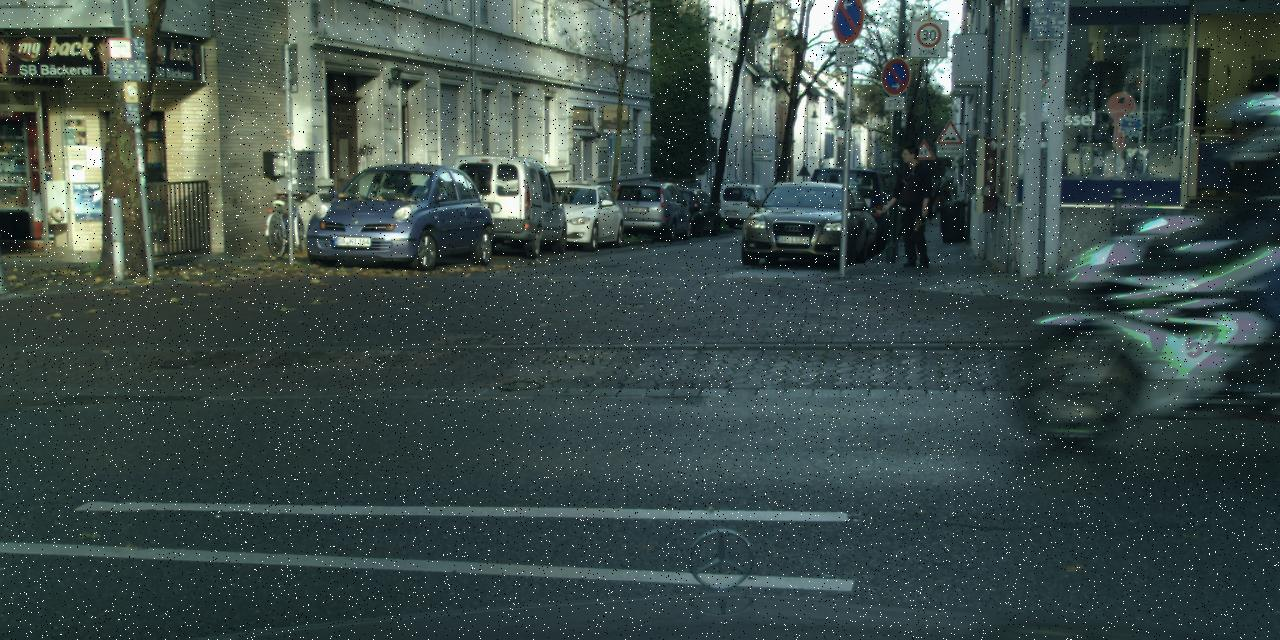ped: (1206, 91, 1278, 391), (888, 144, 938, 268)
